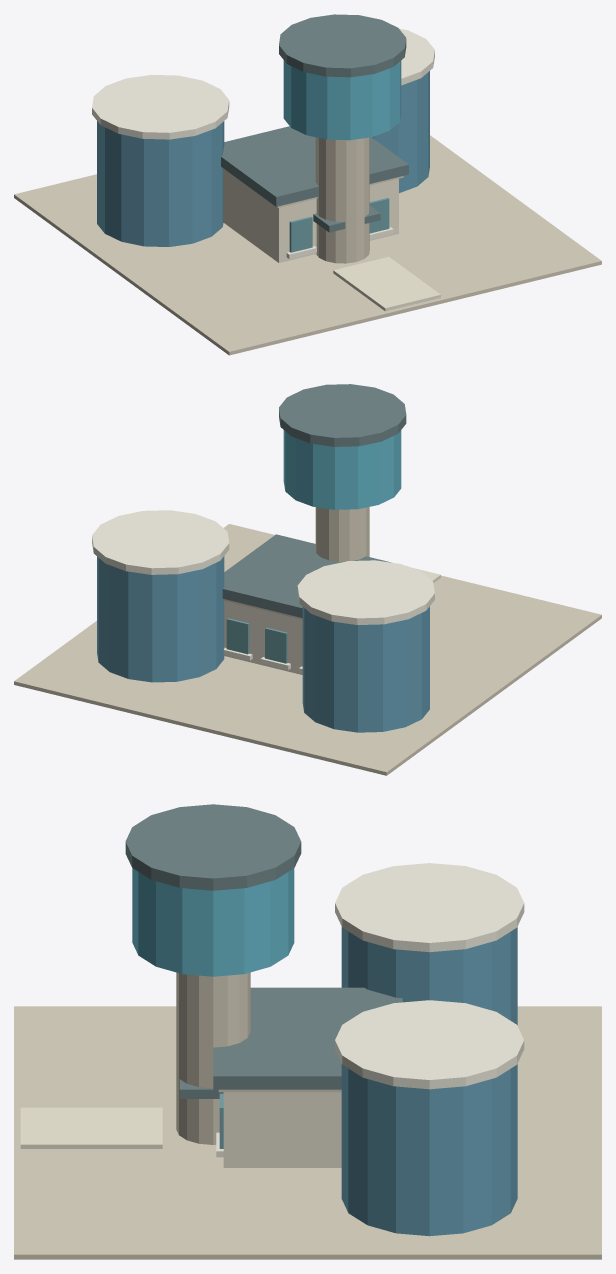
Rendered from civic_water.glb.
The picture shows the model from 3 angles, top to bottom: view 1: azimuth 30°, elevation 25°; view 2: azimuth 150°, elevation 25°; view 3: azimuth 270°, elevation 25°; orthographic projection. The views are drawn at different scales.
Parts seen in each view (by area): view 1: Paved civic lot.001, Reservoir tank, Raised water reservoir, Reservoir lid, Copper roof.001, Water tower cap, Water tower pedestal, Masonry shell.001, Reservoir tank.001, Front path.001, Reservoir lid.001, Recessed glazing.012 (+2 smaller); view 2: Paved civic lot.001, Reservoir tank, Reservoir tank.001, Raised water reservoir, Reservoir lid.001, Reservoir lid, Water tower cap, Copper roof.001, Water tower pedestal, Masonry shell.001, Recessed glazing.017, Recessed glazing.015; view 3: Paved civic lot.001, Reservoir tank.001, Raised water reservoir, Reservoir lid, Reservoir lid.001, Water tower cap, Copper roof.001, Reservoir tank, Masonry shell.001, Water tower pedestal, Front path.001.
Boxes of the visible parts, <box> form: Paved civic lot.001: <box>14,135,601,355</box>; Reservoir tank: <box>97,121,224,246</box>; Raised water reservoir: <box>283,60,401,140</box>; Reservoir lid: <box>92,74,229,139</box>; Copper roof.001: <box>221,126,408,206</box>; Water tower cap: <box>279,14,406,77</box>; Water tower pedestal: <box>315,137,369,263</box>; Masonry shell.001: <box>223,168,398,262</box>; Reservoir tank.001: <box>372,71,429,193</box>; Front path.001: <box>333,257,440,311</box>; Reservoir lid.001: <box>399,28,434,85</box>; Recessed glazing.012: <box>289,216,312,252</box>; Paved civic lot.001: <box>14,524,601,775</box>; Reservoir tank: <box>302,606,429,732</box>; Reservoir tank.001: <box>97,556,224,682</box>; Raised water reservoir: <box>283,430,401,509</box>; Reservoir lid.001: <box>92,510,229,574</box>; Reservoir lid: <box>297,560,434,624</box>; Water tower cap: <box>279,384,406,446</box>; Copper roof.001: <box>222,534,391,617</box>; Water tower pedestal: <box>315,507,369,561</box>; Masonry shell.001: <box>224,601,302,674</box>; Recessed glazing.017: <box>226,618,249,654</box>; Recessed glazing.015: <box>265,627,287,663</box>; Paved civic lot.001: <box>14,1006,601,1259</box>; Reservoir tank.001: <box>341,1064,517,1236</box>; Raised water reservoir: <box>132,868,294,976</box>; Reservoir lid: <box>335,863,524,952</box>; Reservoir lid.001: <box>335,1000,524,1089</box>; Water tower cap: <box>125,804,301,890</box>; Copper roof.001: <box>213,987,402,1089</box>; Reservoir tank: <box>341,927,517,1025</box>; Masonry shell.001: <box>223,1092,341,1167</box>; Water tower pedestal: <box>176,972,250,1144</box>; Front path.001: <box>20,1107,162,1148</box>.
Bounding box in the file's own units: 8.7 × 4.8 × 8.7.
